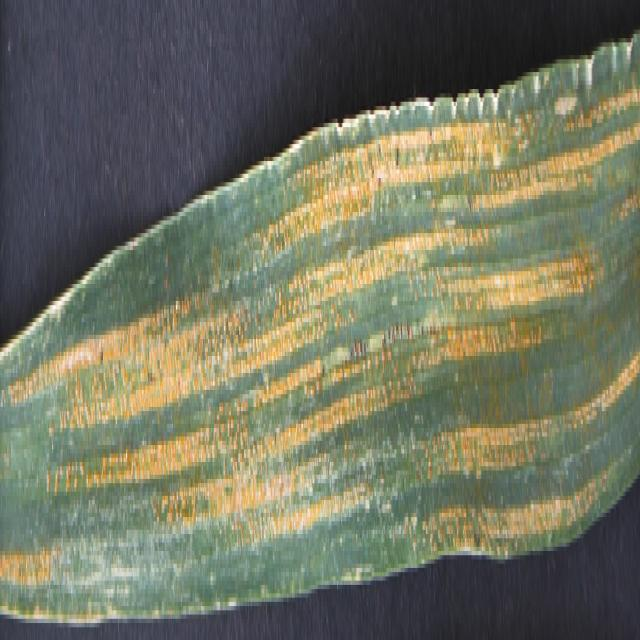leaf rust: (3, 81, 640, 572)
